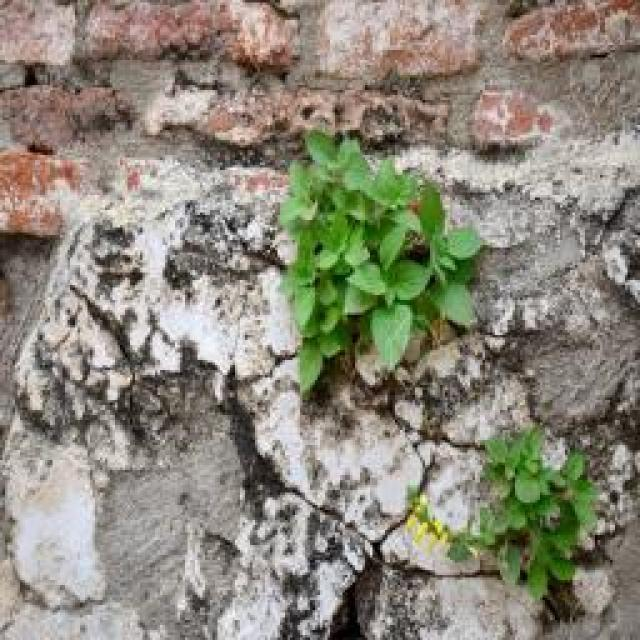dampens: (46, 212, 282, 625)
vegetation: (275, 127, 484, 399), (406, 423, 601, 602)
